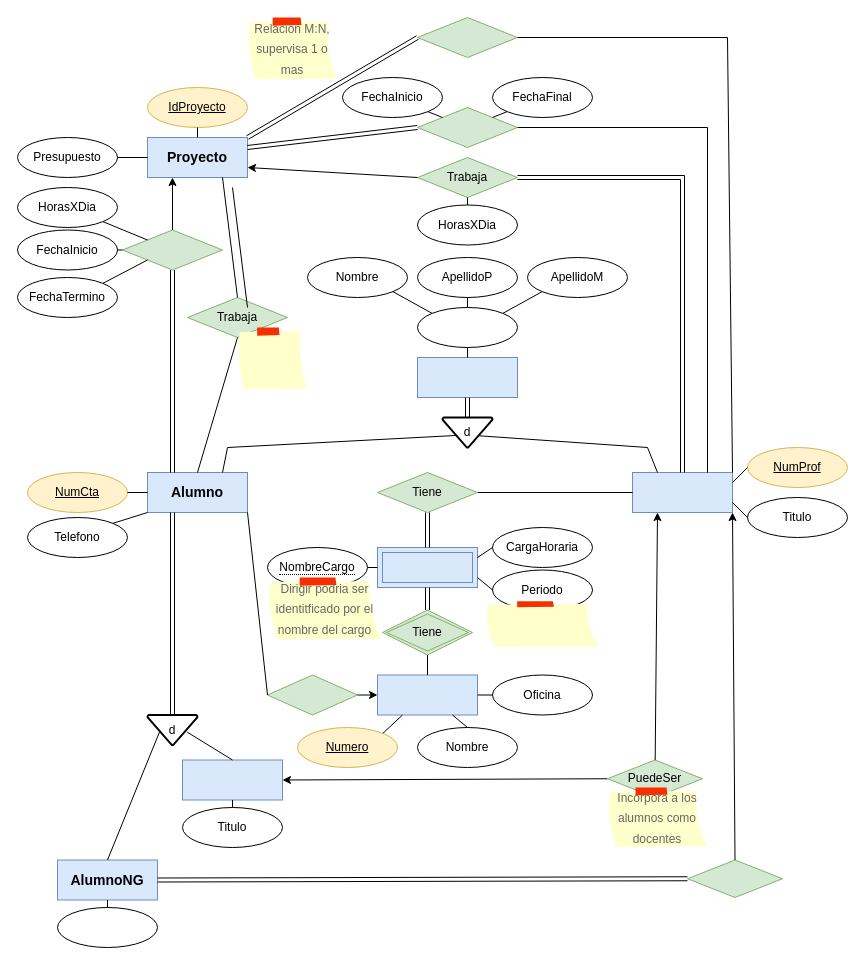
Some shapes in this 865 by 965 pixel diagram are drawn without their labels. The shapes that lost their labels are listed below. From the top down, each one's centre as x and y in pixels, then its label:
At point 467,37: "Supervisa".
At point 467,127: "Administra".
At point 172,249: "Participa".
At point 467,327: "NombreC".
At point 272,358: "Esta esta medio rara".
At point 467,377: "Persona".
At point 682,492: "Profesor".
At point 427,567: "Cargo".
At point 542,624: "Util tener para todos los cargos".
At point 312,694: "Adscrito".
At point 427,694: "Departamento".
At point 232,779: "AlumnoG".
At point 734,878: "Tutor".
At point 107,927: "HistorialA".
